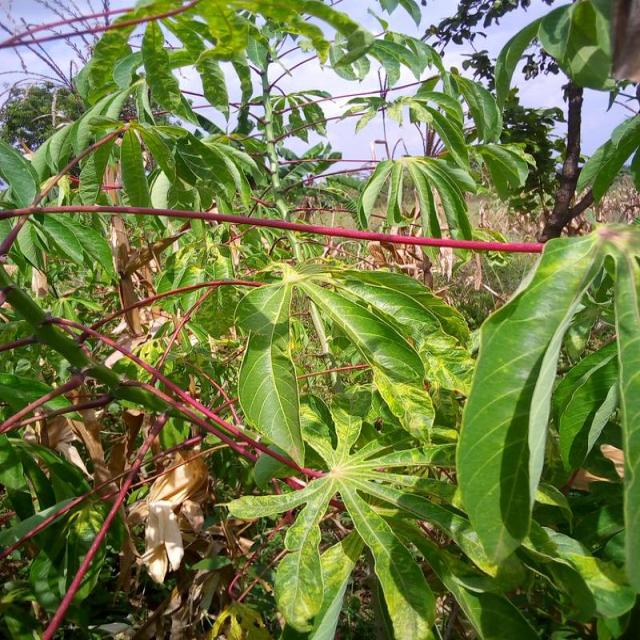cassava leaf: (454, 221, 638, 578)
